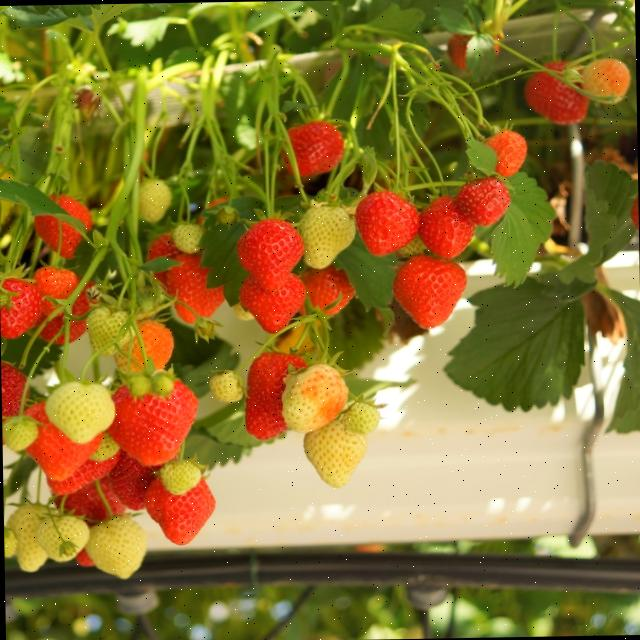Ripe Strawberry: (112, 378, 198, 466), (244, 351, 310, 441), (56, 483, 125, 566), (36, 430, 120, 498), (392, 254, 466, 330), (143, 472, 215, 546), (34, 265, 99, 346), (237, 218, 304, 289), (525, 61, 591, 126), (355, 192, 420, 258), (165, 252, 226, 322), (238, 274, 304, 334), (34, 195, 92, 258), (418, 196, 482, 253), (147, 234, 206, 294), (109, 448, 164, 511), (284, 120, 342, 175), (458, 176, 512, 227), (297, 267, 354, 315), (0, 277, 42, 340), (1, 361, 27, 447), (449, 33, 500, 68)
